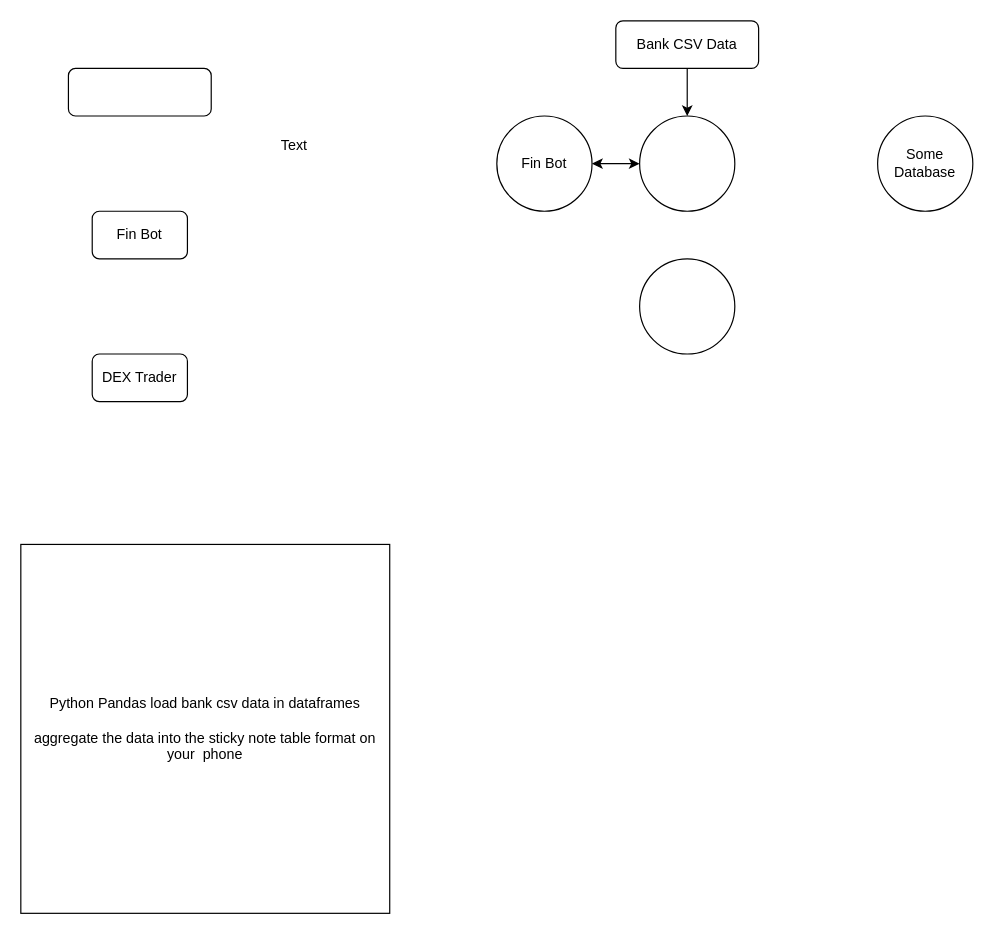
Some shapes in this 994 by 934 pixel diagram are drawn without their labels. The shapes that lost their labels are listed below. From the top down, each one's centre as x and y in pixels, then its label:
(x=139, y=91): Discord Commands
(x=686, y=163): Python API
